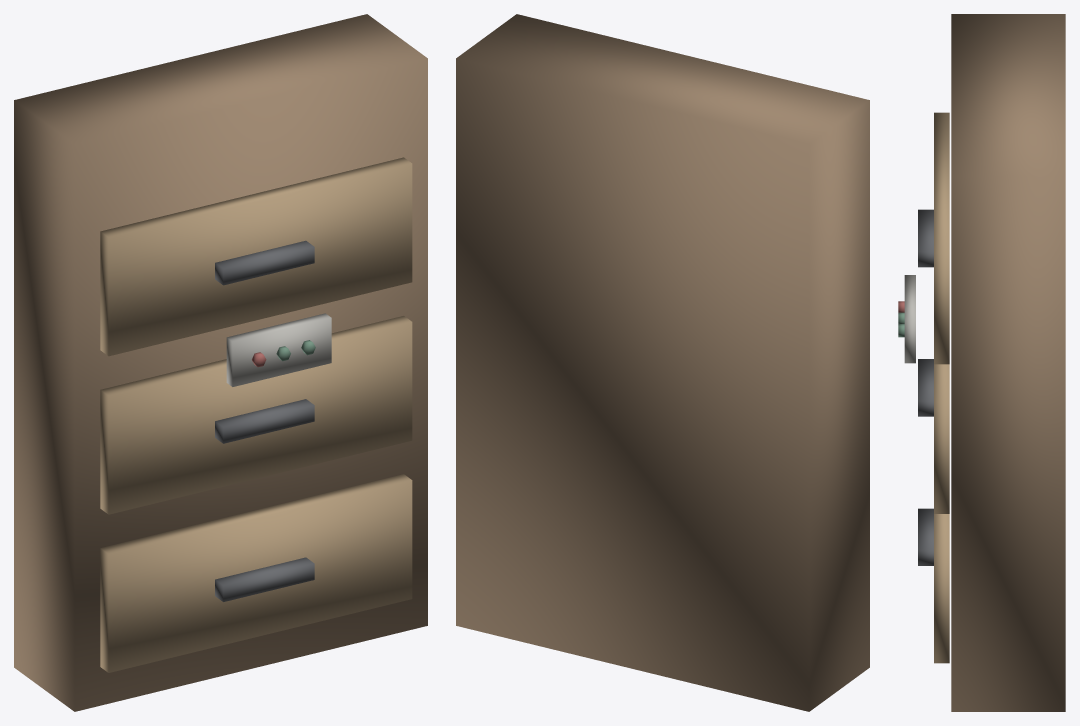
File: medicine_cabinet__compact.glb
The picture shows the model from 3 angles, left to right: view 1: azimuth 30°, elevation 25°; view 2: azimuth 150°, elevation 25°; view 3: azimuth 270°, elevation 25°; orthographic projection. The views are drawn at different scales.
Parts seen in each view (by area): view 1: world; view 2: world; view 3: world.
Boxes of the visible parts, box(x1,y1,x2,y2) form: world: box(14, 14, 427, 711); world: box(456, 14, 869, 711); world: box(898, 14, 1065, 711).
Bounding box in the file's own units: 0.5208 × 0.7998 × 0.2266.
